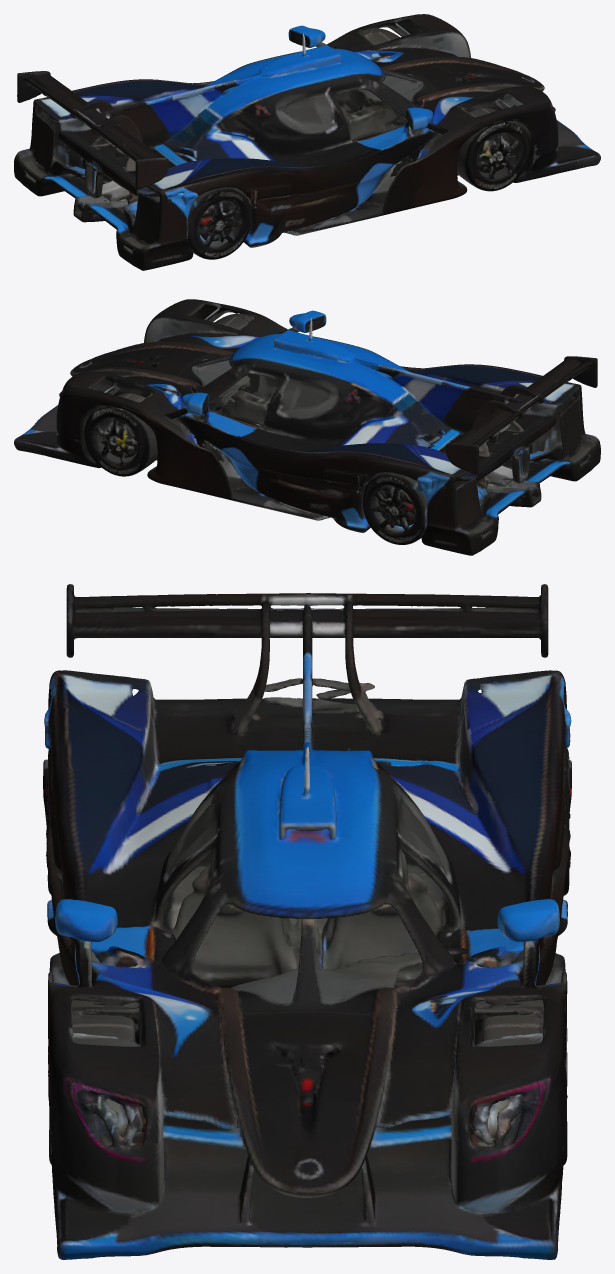
The model's file is lmp2.glb.
The picture shows the model from 3 angles, top to bottom: view 1: azimuth 30°, elevation 25°; view 2: azimuth 150°, elevation 25°; view 3: azimuth 270°, elevation 25°; orthographic projection. The views are drawn at different scales.
Visible parts, largest first — view 1: tripo_node_f2b78348-73f6-4785-b2e6-5b4192cba616; view 2: tripo_node_f2b78348-73f6-4785-b2e6-5b4192cba616; view 3: tripo_node_f2b78348-73f6-4785-b2e6-5b4192cba616.
Boxes of the visible parts, x1,y1,x2,y2 form: tripo_node_f2b78348-73f6-4785-b2e6-5b4192cba616: (14, 14, 600, 270); tripo_node_f2b78348-73f6-4785-b2e6-5b4192cba616: (14, 299, 600, 555); tripo_node_f2b78348-73f6-4785-b2e6-5b4192cba616: (43, 584, 571, 1259).
Bounding box in the file's own units: 1 × 0.2981 × 0.4944.
1 material, 1 textured.
